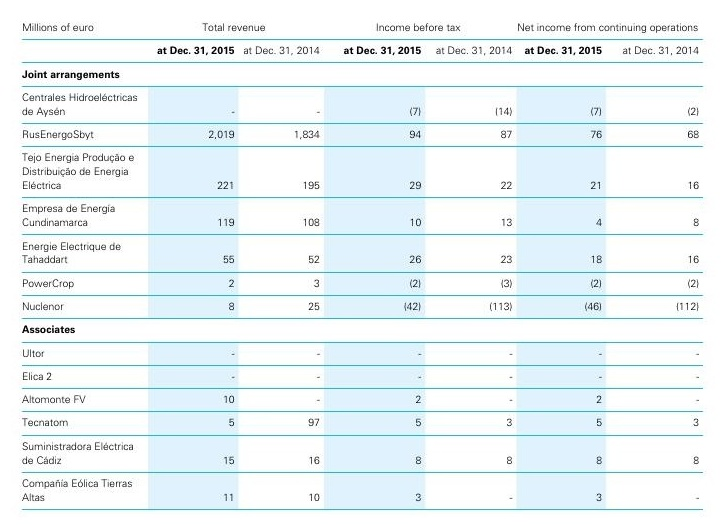table: (0, 0, 725, 525)
